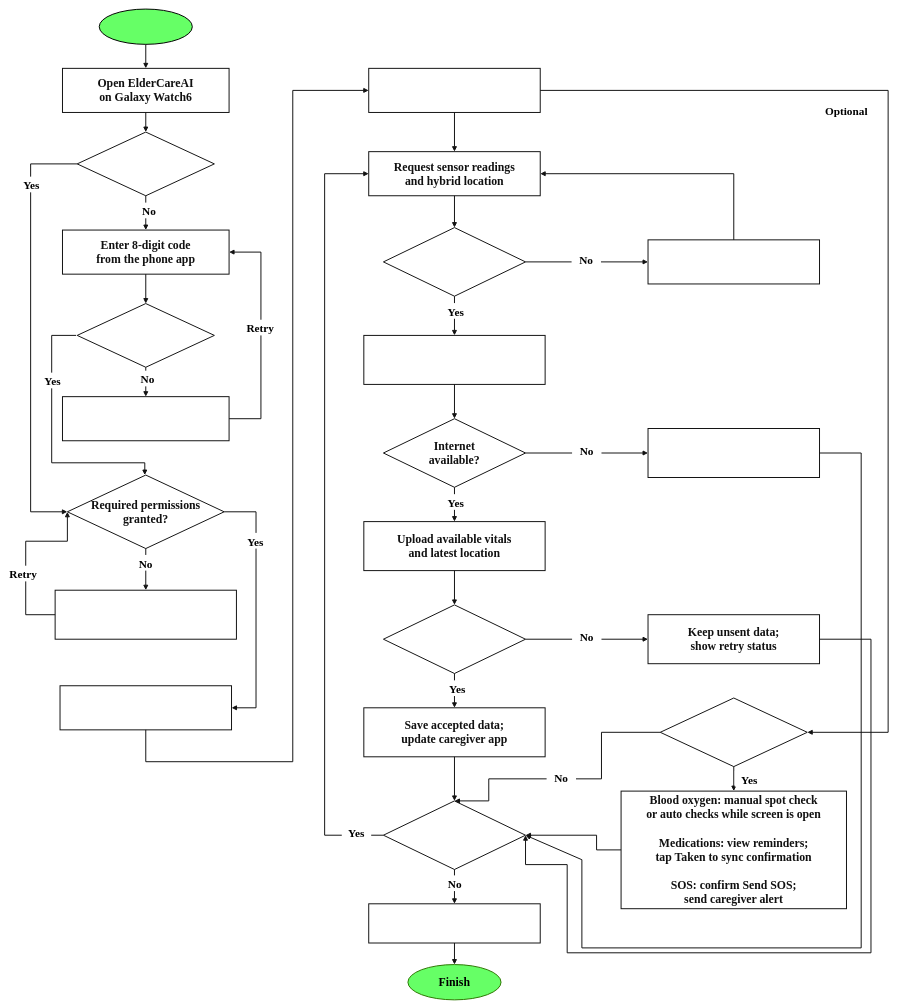
The diagram is 901 pixels wide and 1008 high, and some of its shapes have lost their labels. Each missing label, with the centre of its shape:
Allow sensor, activity and location permissions: the point at 145,614
Continue monitoring?: the point at 454,835
Keep queued vitals; retry when connected: the point at 733,453
New valid data available?: the point at 454,261
Pairing successful?: the point at 145,335
Show error and retry pairing: the point at 145,418
Show waiting status; keep requesting data: the point at 733,261
START: the point at 145,26
Start monitoring service: the point at 454,90
Tap Start monitoring: the point at 145,707
Tap Stop monitoring: the point at 454,923
Update watch cards; queue vital measurements: the point at 454,360
Upload successful?: the point at 454,639
Use an optional watch action?: the point at 734,732
Watch already paired?: the point at 145,163
